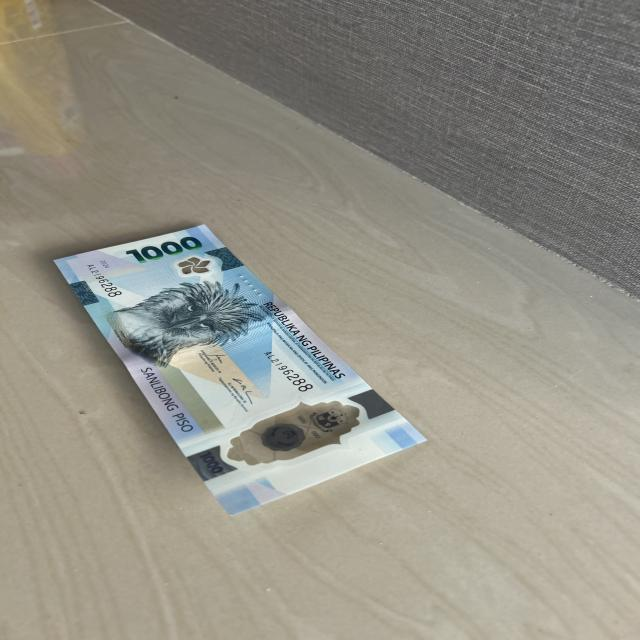clear_window: (212, 400, 378, 470)
eagle: (117, 283, 248, 354)
sampaguita: (179, 256, 214, 274)
